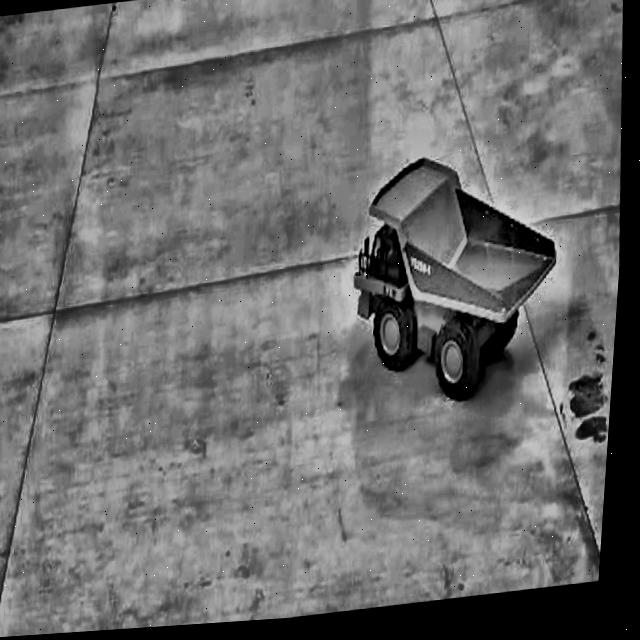dump_truck: (340, 147, 569, 417)
